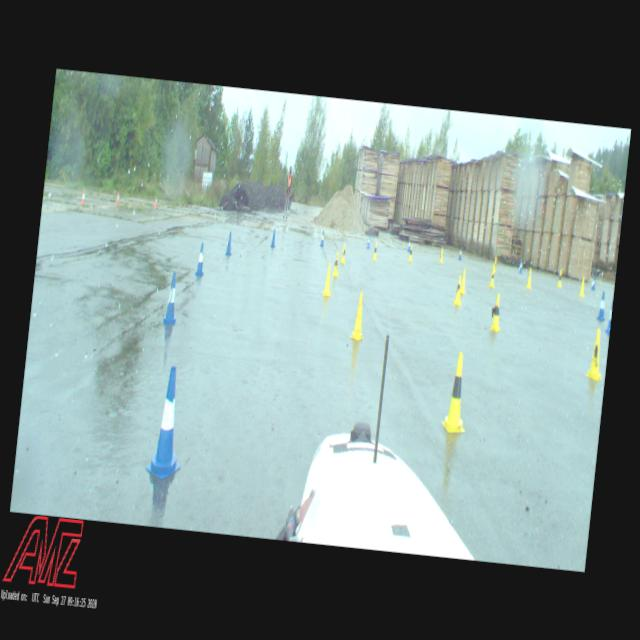blue_cone: (144, 364, 190, 480), (162, 270, 181, 329), (194, 241, 207, 277), (596, 290, 608, 322), (225, 231, 234, 256), (606, 298, 612, 330), (270, 228, 277, 248), (319, 230, 325, 248), (518, 256, 524, 274), (590, 274, 596, 290), (366, 234, 371, 249), (457, 246, 462, 260), (407, 239, 411, 252)
orange_cone: (80, 188, 86, 206), (115, 192, 120, 204), (154, 194, 158, 207)
yellow_cone: (440, 351, 473, 436), (349, 290, 368, 342), (488, 292, 502, 332), (321, 258, 334, 296), (452, 274, 463, 306), (332, 250, 341, 276), (459, 268, 468, 294), (488, 264, 497, 288), (525, 268, 534, 289), (339, 242, 347, 263), (578, 276, 586, 296), (556, 269, 564, 287), (372, 242, 378, 260), (438, 247, 444, 264), (408, 244, 413, 262), (493, 256, 498, 272)
